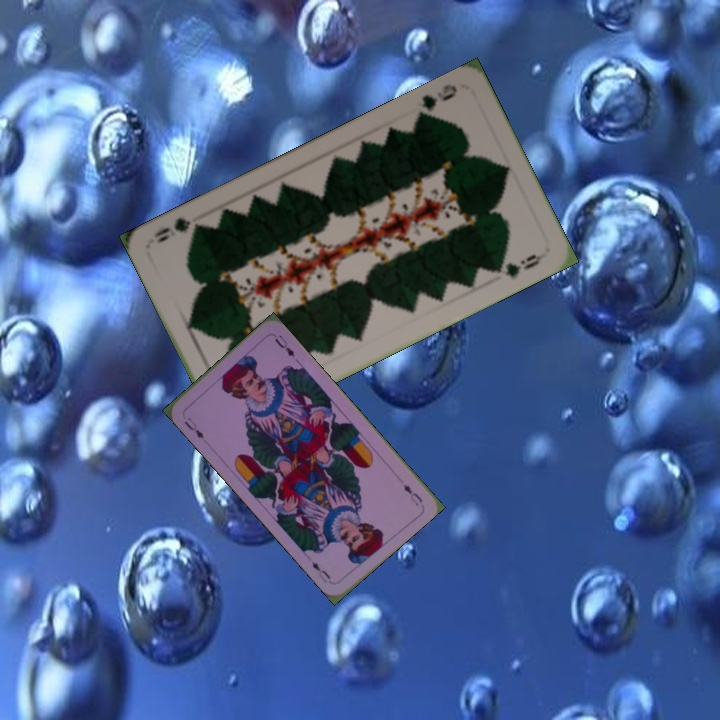EU: (180, 413, 206, 442), (399, 480, 425, 508)
G9: (412, 80, 460, 123)
